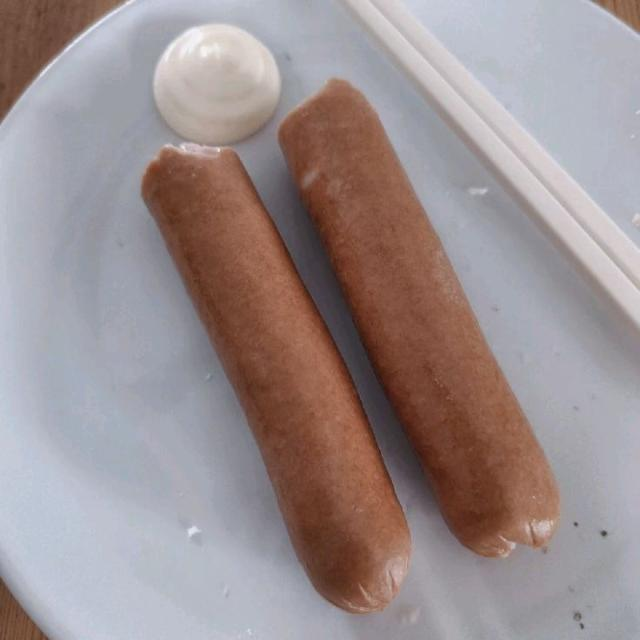sausage: (280, 80, 559, 556), (142, 146, 411, 613)
